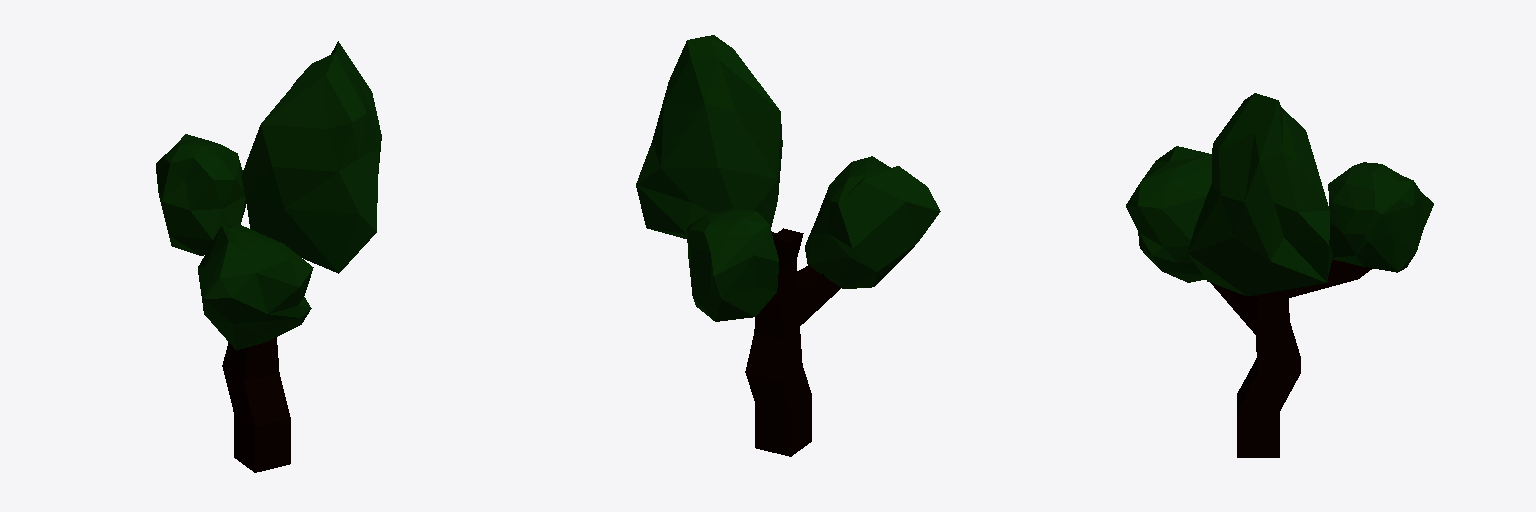
Rendered from tree1.obj.
The picture shows the model from 3 angles: view 1: azimuth 30°, elevation 25°; view 2: azimuth 150°, elevation 25°; view 3: azimuth 270°, elevation 25°; orthographic projection.
Parts seen in each view (by area): view 1: Icosphere, Cube_Cube.001; view 2: Icosphere, Cube_Cube.001; view 3: Icosphere, Cube_Cube.001.
Boxes of the visible parts, <box> form: Icosphere: <box>156,41,381,350</box>; Cube_Cube.001: <box>222,337,290,472</box>; Icosphere: <box>636,35,940,321</box>; Cube_Cube.001: <box>745,228,840,456</box>; Icosphere: <box>1126,93,1433,296</box>; Cube_Cube.001: <box>1211,259,1372,457</box>.
Size of the model in its own units: 6.03 by 10.01 by 7.16.